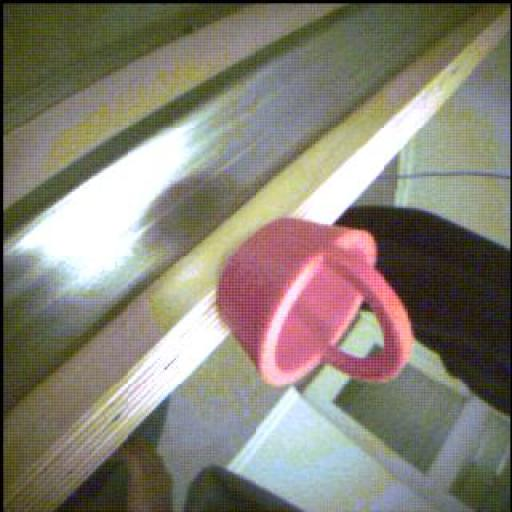Bucket: (216, 216, 417, 398)
